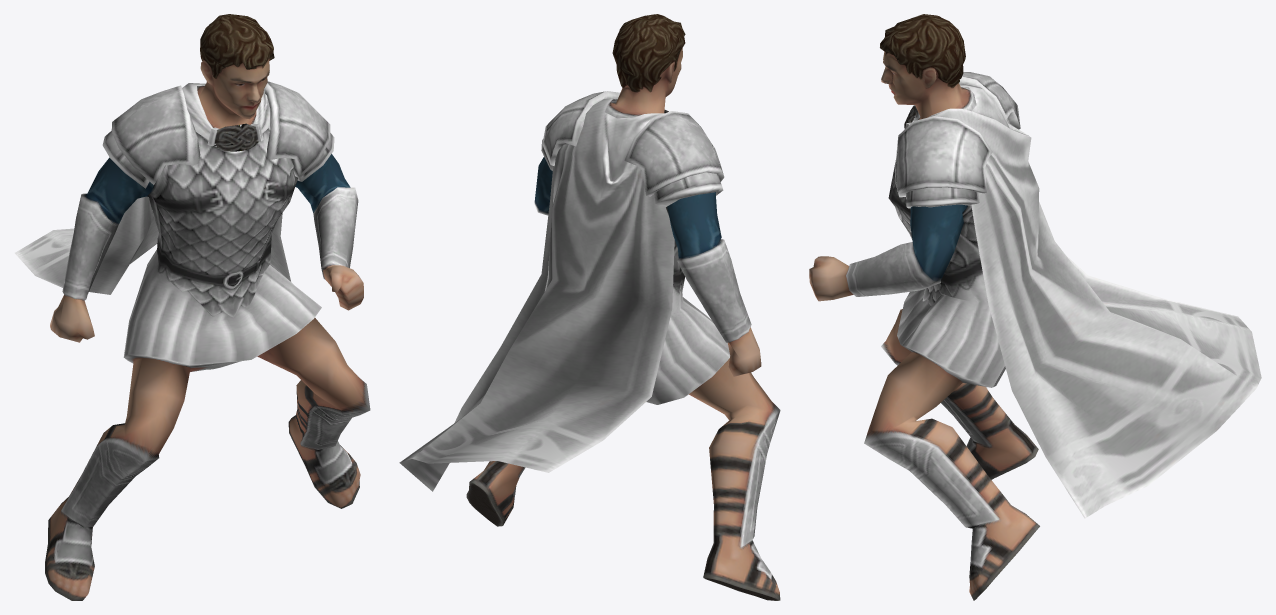
Rendered from rider-slice-championcavalry.glb.
3 views of the same model, side by side, from view 1: azimuth 30°, elevation 25°; view 2: azimuth 150°, elevation 25°; view 3: azimuth 270°, elevation 25° (orthographic). The views are drawn at different scales.
Bounding box in the file's own units: 1.14 × 1.94 × 1.48.
Materials: 1 (1 with a texture image).
